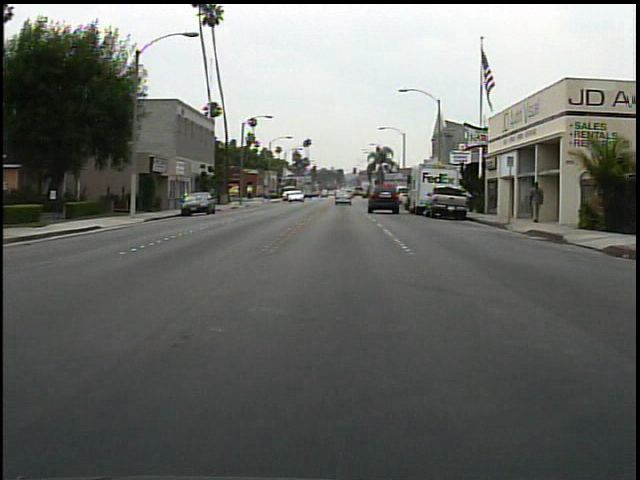person: (525, 180, 548, 228)
